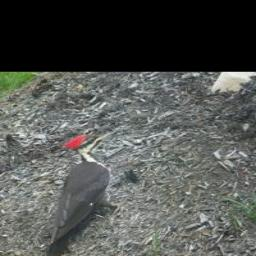Woodpecker: (37, 127, 125, 256)
